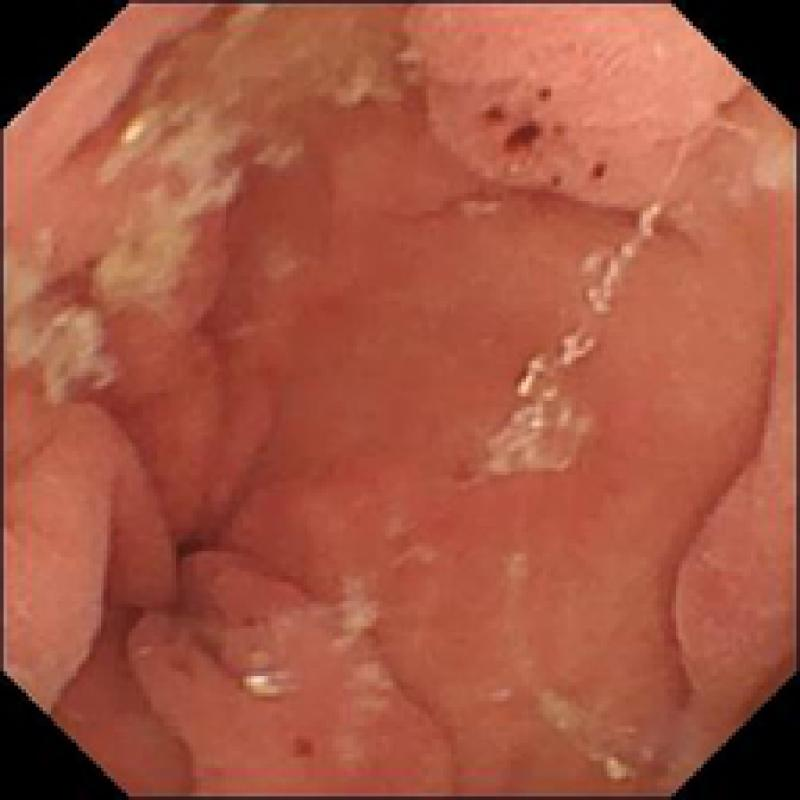bleeding: (479, 86, 611, 191), (286, 722, 321, 768)
